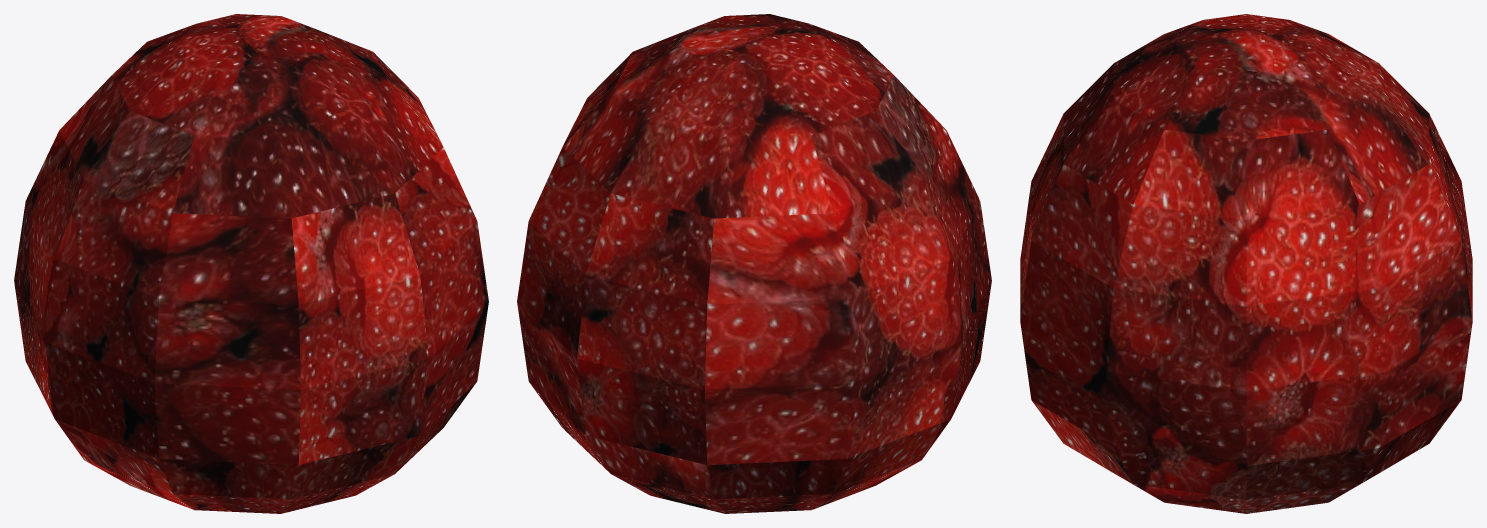
Rendered from Fruit.fbx.
The picture shows the model from 3 angles, left to right: view 1: azimuth 30°, elevation 25°; view 2: azimuth 150°, elevation 25°; view 3: azimuth 270°, elevation 25°; orthographic projection.
Visible parts, largest first — view 1: pSphere1; view 2: pSphere1; view 3: pSphere1.
Boxes of the visible parts, x1,y1,x2,y2 form: pSphere1: (14,14,488,513); pSphere1: (517,14,991,513); pSphere1: (1020,14,1472,513).
Bounding box in the file's own units: 1.09 × 1.16 × 1.04.
Materials: 1 (1 with a texture image).
